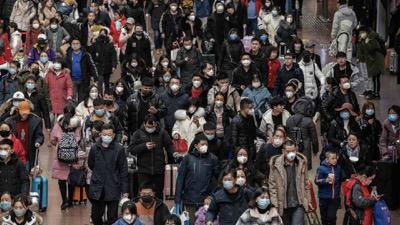with_mask: (122, 212, 136, 225), (257, 196, 270, 209), (140, 192, 153, 205), (234, 174, 246, 188), (284, 149, 296, 162), (222, 177, 233, 191), (236, 152, 248, 164), (101, 133, 113, 145), (197, 142, 208, 155), (339, 108, 349, 120), (273, 135, 283, 147), (213, 98, 224, 108), (250, 80, 261, 90), (203, 133, 216, 141), (365, 107, 375, 117), (341, 80, 351, 90), (94, 107, 104, 117), (25, 81, 35, 91), (205, 67, 214, 78), (0, 127, 9, 138), (0, 147, 8, 159), (388, 112, 397, 122), (250, 43, 260, 52), (219, 81, 229, 90), (192, 78, 201, 88), (145, 125, 155, 134), (170, 82, 179, 92), (104, 96, 113, 106), (89, 90, 98, 100), (91, 128, 100, 138), (12, 99, 22, 108), (242, 58, 251, 67), (39, 55, 48, 64), (285, 89, 293, 99), (246, 106, 254, 116), (142, 88, 152, 96), (8, 65, 16, 75), (188, 105, 196, 114), (115, 85, 123, 94), (71, 43, 79, 52), (31, 66, 39, 75), (19, 112, 28, 120), (203, 202, 210, 212), (365, 178, 373, 186), (163, 75, 171, 83), (183, 43, 191, 51), (215, 4, 223, 12), (37, 38, 45, 46), (359, 31, 366, 40), (302, 56, 311, 63), (53, 62, 60, 71), (285, 15, 292, 23), (260, 34, 267, 42), (229, 33, 237, 40), (294, 43, 301, 51), (161, 60, 168, 68), (188, 14, 195, 22), (135, 28, 142, 36), (130, 61, 138, 68), (323, 82, 328, 92), (128, 1, 135, 8), (50, 23, 57, 30), (32, 22, 39, 29), (271, 8, 277, 16), (264, 1, 270, 8), (171, 4, 177, 11), (113, 14, 119, 21), (53, 15, 59, 21), (103, 1, 108, 8), (89, 5, 94, 12), (16, 54, 21, 60)
without_mask: (347, 137, 357, 148), (283, 57, 293, 67), (336, 57, 345, 66), (329, 156, 337, 166), (276, 105, 284, 114), (307, 46, 315, 55), (270, 52, 278, 60), (126, 23, 133, 29), (88, 15, 94, 22), (99, 33, 105, 40), (46, 1, 52, 7), (229, 8, 234, 15)
